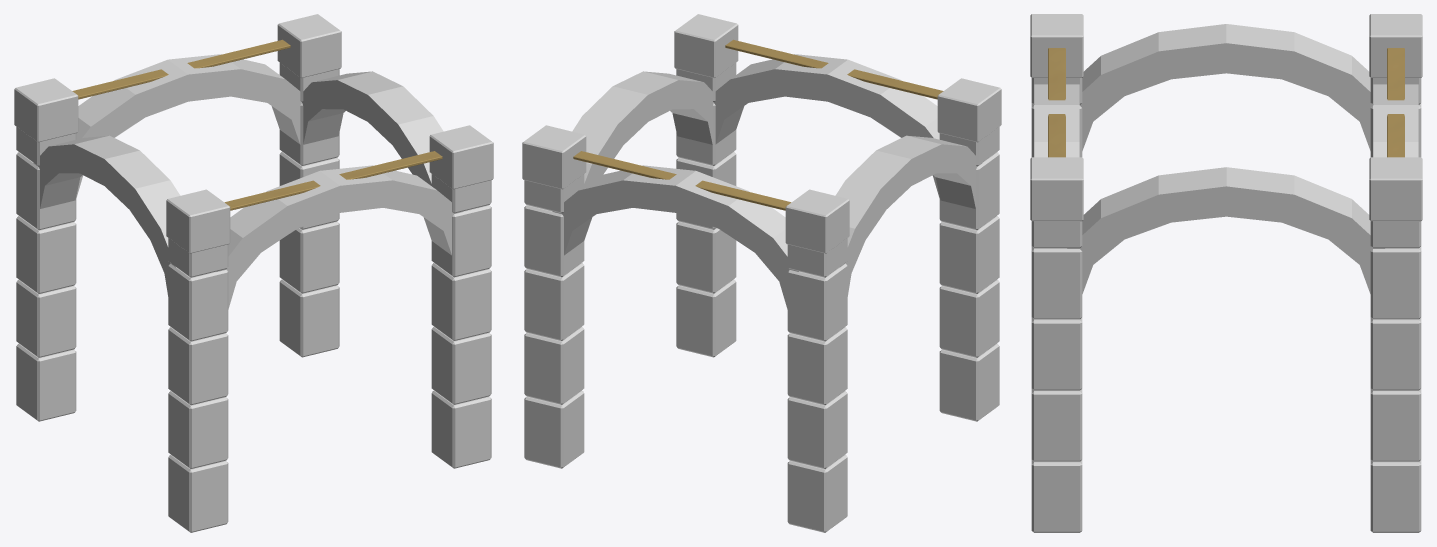
The model's file is WarrensC_WVC018_BellTowerCrownModule_Mars_SM.fbx.
3 views of the same model, side by side, from view 1: azimuth 30°, elevation 25°; view 2: azimuth 150°, elevation 25°; view 3: azimuth 270°, elevation 25° (orthographic). The views are drawn at different scales.
Parts seen in each view (by area): view 1: WarrensC_WVC018_BellTowerCrownModule_Mars_SM.001; view 2: WarrensC_WVC018_BellTowerCrownModule_Mars_SM.001; view 3: WarrensC_WVC018_BellTowerCrownModule_Mars_SM.001.
Part boxes in pixels (x1=…): WarrensC_WVC018_BellTowerCrownModule_Mars_SM.001: x1=14, y1=14, x2=493, y2=532; WarrensC_WVC018_BellTowerCrownModule_Mars_SM.001: x1=522, y1=14, x2=1001, y2=532; WarrensC_WVC018_BellTowerCrownModule_Mars_SM.001: x1=1030, y1=14, x2=1422, y2=532.
Bounding box in the file's own units: 400 × 400 × 400.
